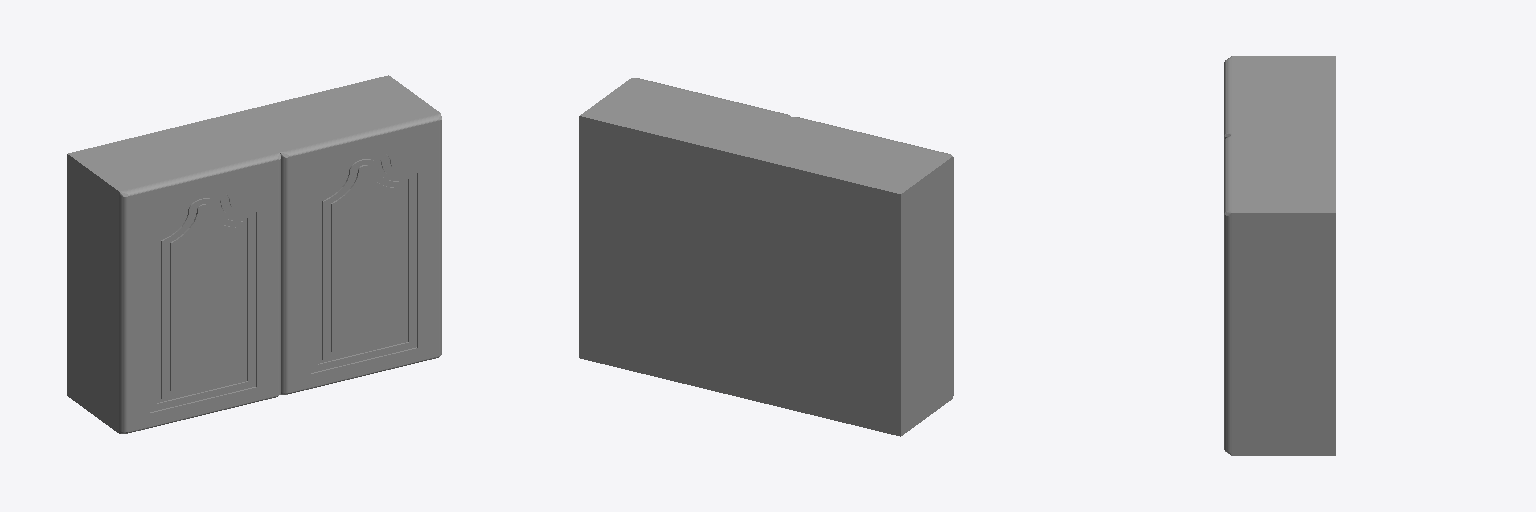
Rendered from double-wall-unit-1000.obj.
The picture shows the model from 3 angles: view 1: azimuth 30°, elevation 25°; view 2: azimuth 150°, elevation 25°; view 3: azimuth 270°, elevation 25°; orthographic projection.
Visible parts, largest first — view 1: Cube.003_Cube.008, Cube.004_Cube.000, Cube_Cube.002, Cube.002_Cube.004; view 2: Cube_Cube.002, Cube.002_Cube.004, Cube.001_Cube.003; view 3: Cube.001_Cube.003, Cube_Cube.002, Cube.004_Cube.000, Cube.003_Cube.008.
Part boxes in pixels (x1,y1,x2,y2): Cube.003_Cube.008: (119,153,280,433); Cube.004_Cube.000: (280,113,441,394); Cube_Cube.002: (72,77,435,189); Cube.002_Cube.004: (67,153,123,432); Cube_Cube.002: (584,79,947,434); Cube.002_Cube.004: (896,155,952,436); Cube.001_Cube.003: (579,78,635,358); Cube.001_Cube.003: (1232,211,1335,455); Cube_Cube.002: (1232,59,1335,210); Cube.004_Cube.000: (1224,135,1231,455); Cube.003_Cube.008: (1224,56,1231,139).
Bounding box in the file's own units: 200 × 144 × 60.